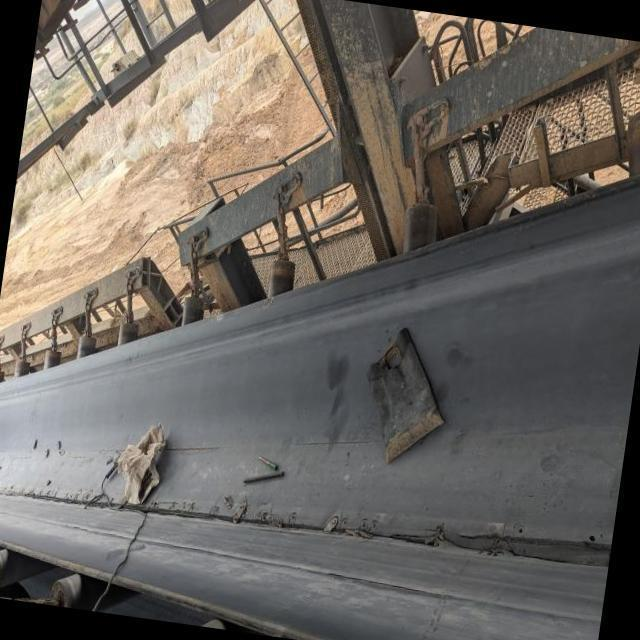Tear: (0, 480, 612, 574)
